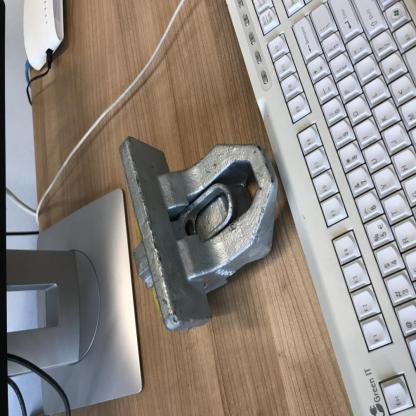Twistlock: (118, 130, 288, 336)
